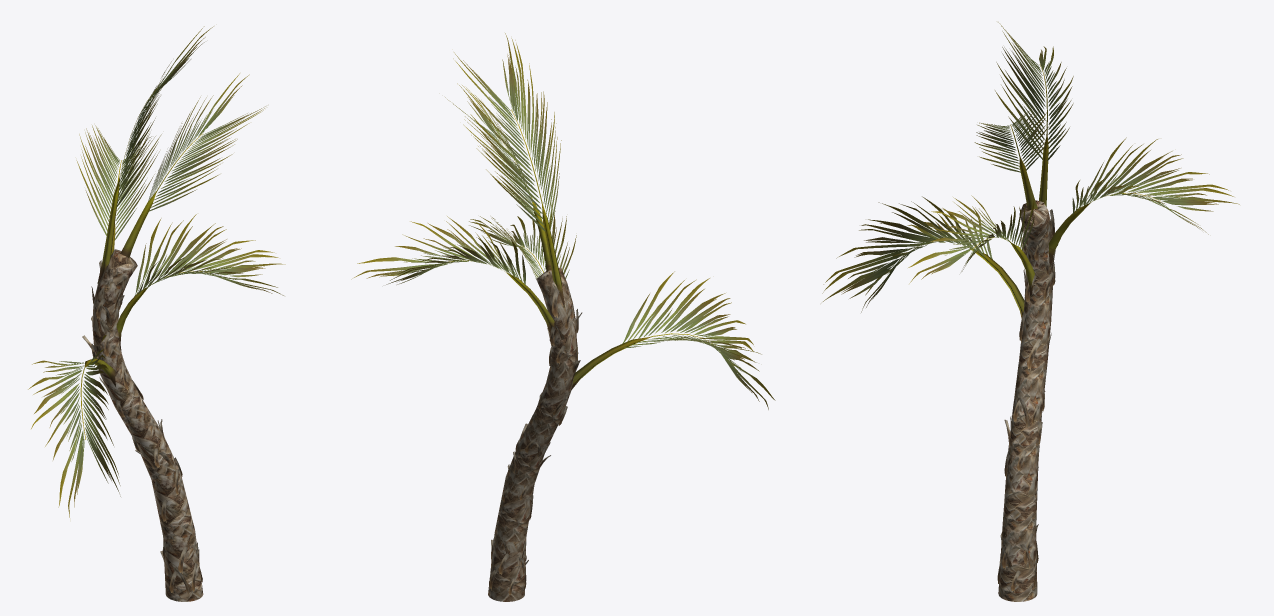
Rendered from Palmseventy.obj.
3 renders of one model, left to right at view 1: azimuth 30°, elevation 25°; view 2: azimuth 150°, elevation 25°; view 3: azimuth 270°, elevation 25°, orthographic. The views are drawn at different scales.
Parts seen in each view (by area): view 1: curly palm leaf, palm07, barkpalm, frond stem; view 2: curly palm leaf, palm07, frond stem, barkpalm; view 3: curly palm leaf, palm07, barkpalm, frond stem.
Part boxes in pixels (<box>): curly palm leaf: <box>28,26,285,517</box>; palm07: <box>92,249,203,601</box>; barkpalm: <box>82,260,202,594</box>; frond stem: <box>84,176,156,386</box>; curly palm leaf: <box>351,33,775,409</box>; palm07: <box>488,267,576,601</box>; frond stem: <box>506,197,651,389</box>; barkpalm: <box>489,289,582,595</box>; curly palm leaf: <box>822,22,1239,312</box>; palm07: <box>998,200,1053,601</box>; barkpalm: <box>997,209,1058,592</box>; frond stem: <box>970,133,1091,318</box>.
Size of the model in its own units: 154 by 276 by 189.
Materials: 4 (4 with a texture image).
